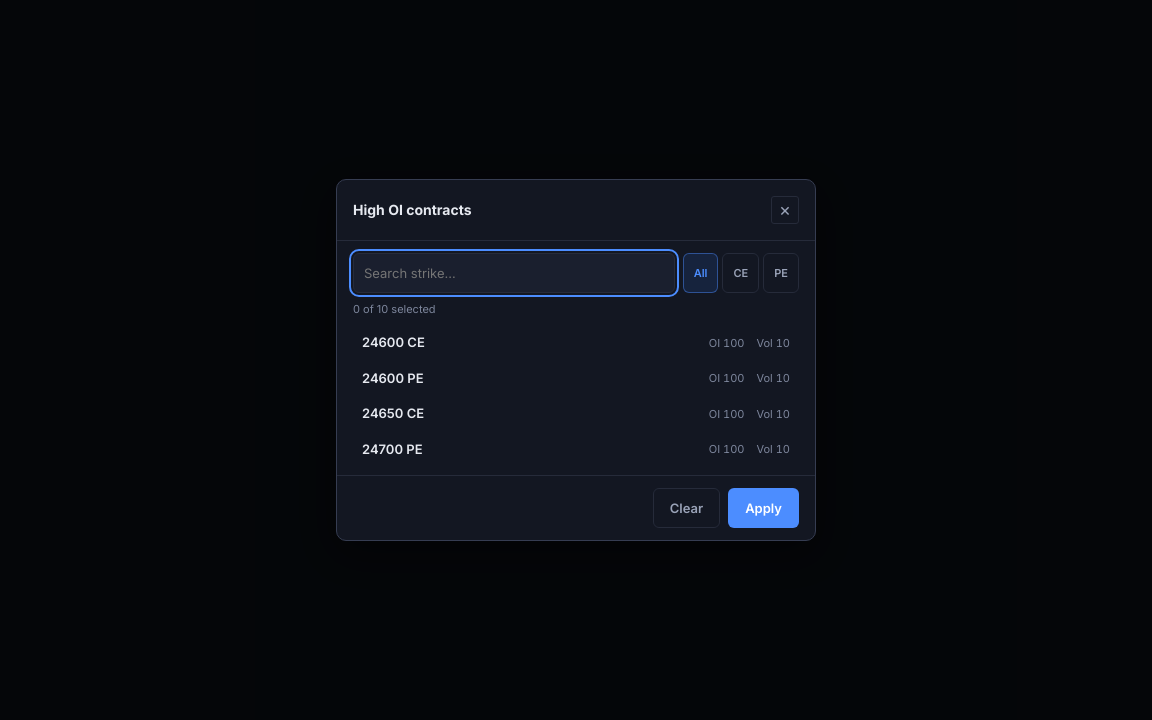
Test: ContractPicker › filters by strike as you type
This screenshot has width=1152, height=720.
Type "24700" into the search field labelled "Search strike" at (514, 273), box [353,253,675,293]
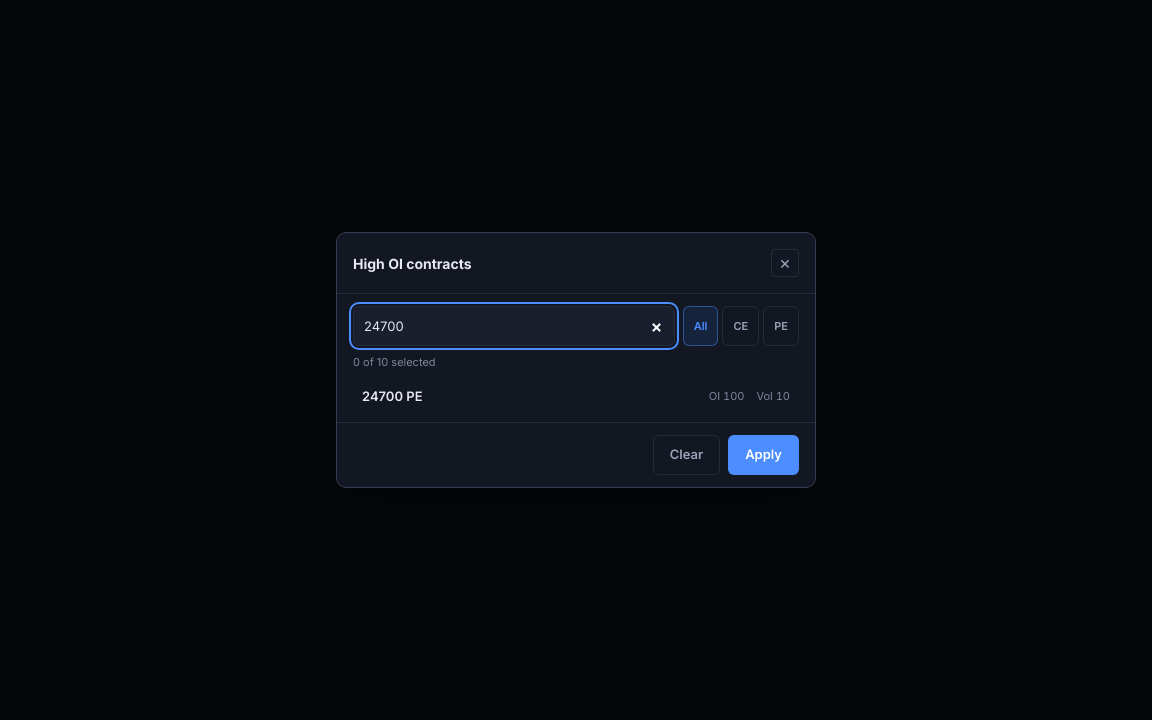
Check: the text "24700 PE" is shown, box [362,388,422,404]
Check: the button "24600 CE" is gone
